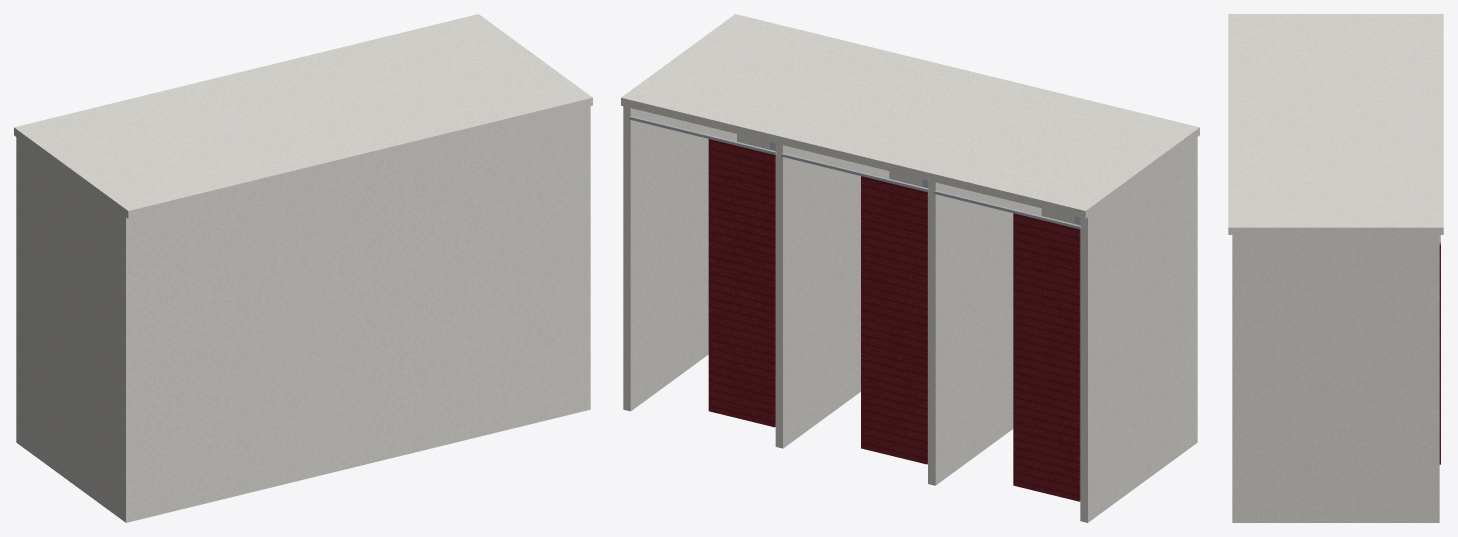
File: fitting_rooms.glb
3 renders of one model, left to right at view 1: azimuth 30°, elevation 25°; view 2: azimuth 150°, elevation 25°; view 3: azimuth 270°, elevation 25°, orthographic. The views are drawn at different scales.
Parts seen in each view (by area): view 1: fitting_rooms; view 2: fitting_rooms; view 3: fitting_rooms.
Boxes of the visible parts, box(x1,y1,x2,y2) form: fitting_rooms: box(14, 14, 592, 522); fitting_rooms: box(621, 14, 1199, 522); fitting_rooms: box(1228, 14, 1443, 522).
Bounding box in the file's own units: 3.66 × 2.36 × 1.56.
Materials: 5 (5 with a texture image).
